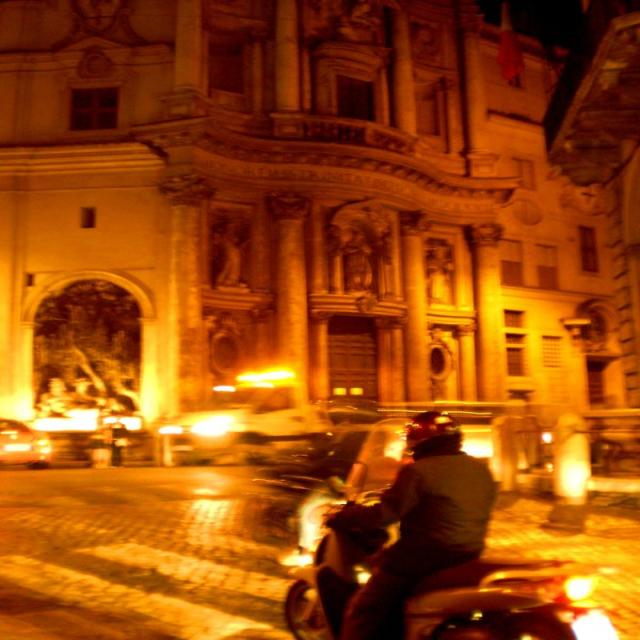Motorbike: (272, 460, 579, 640)
People: (337, 396, 498, 587)
car: (180, 356, 345, 460)
